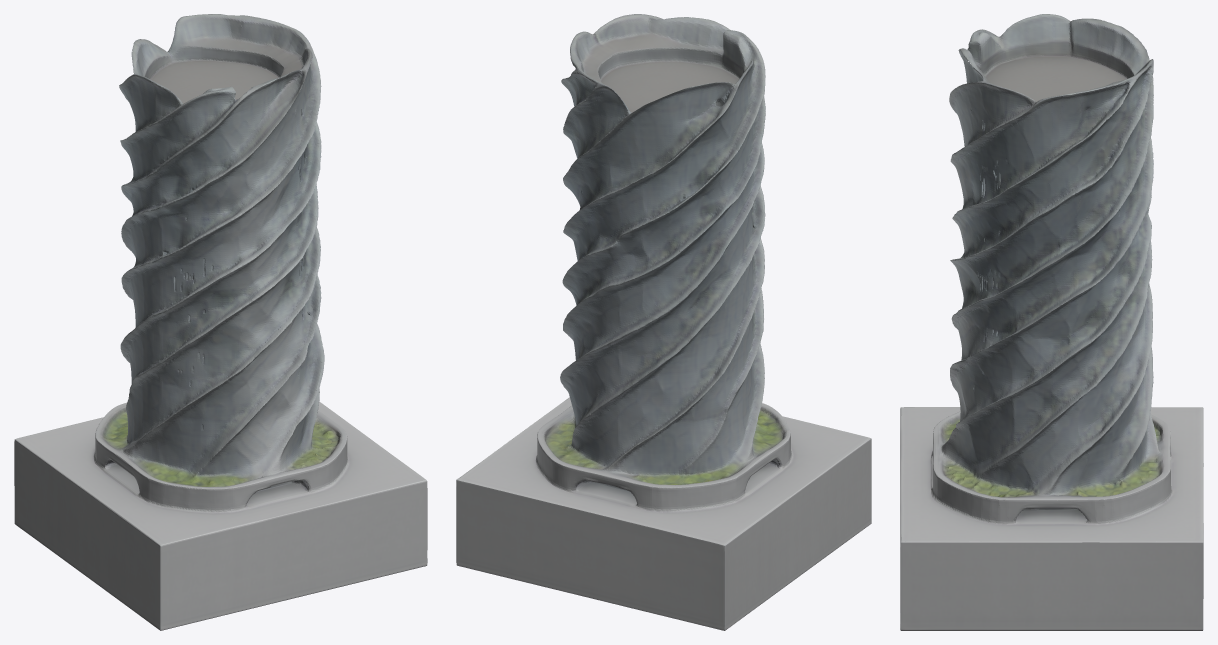
3 views of the same model, side by side, from view 1: azimuth 30°, elevation 25°; view 2: azimuth 150°, elevation 25°; view 3: azimuth 270°, elevation 25° (orthographic). The views are drawn at different scales.
Visible parts, largest first — view 1: geometry_0; view 2: geometry_0; view 3: geometry_0.
Boxes of the visible parts, bbox=[...] form: geometry_0: bbox=[14, 14, 427, 630]; geometry_0: bbox=[456, 14, 871, 630]; geometry_0: bbox=[900, 14, 1203, 630].
Size of the model in its own units: 0.5699 by 1 by 0.5391.
